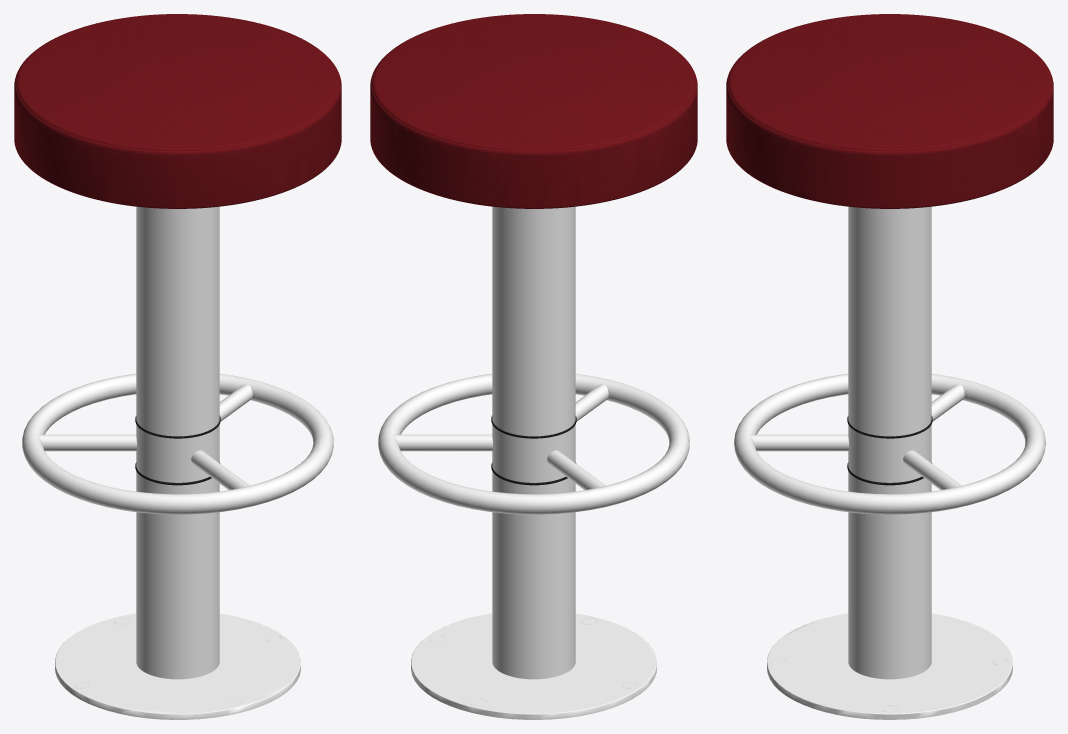
File: c114-teknofibra-20.glb
3 renders of one model, left to right at view 1: azimuth 30°, elevation 25°; view 2: azimuth 150°, elevation 25°; view 3: azimuth 270°, elevation 25°, orthographic.
Parts seen in each view (by area): view 1: c114-base-piastra, c114-seduta-acciaio, c114-tubo-boccola-alta; view 2: c114-base-piastra, c114-seduta-acciaio, c114-tubo-boccola-alta; view 3: c114-base-piastra, c114-seduta-acciaio, c114-tubo-boccola-alta.
Boxes of the visible parts, bbox=[...] form: c114-base-piastra: bbox=[22, 206, 333, 719]; c114-seduta-acciaio: bbox=[14, 14, 341, 208]; c114-tubo-boccola-alta: bbox=[135, 415, 220, 485]; c114-base-piastra: bbox=[378, 206, 689, 719]; c114-seduta-acciaio: bbox=[370, 14, 697, 208]; c114-tubo-boccola-alta: bbox=[491, 415, 576, 485]; c114-base-piastra: bbox=[734, 206, 1045, 719]; c114-seduta-acciaio: bbox=[726, 14, 1053, 208]; c114-tubo-boccola-alta: bbox=[847, 416, 932, 485].
Size of the model in its own units: 0.3991 by 0.8009 by 0.3991.
Materials: 4 (1 with a texture image).
